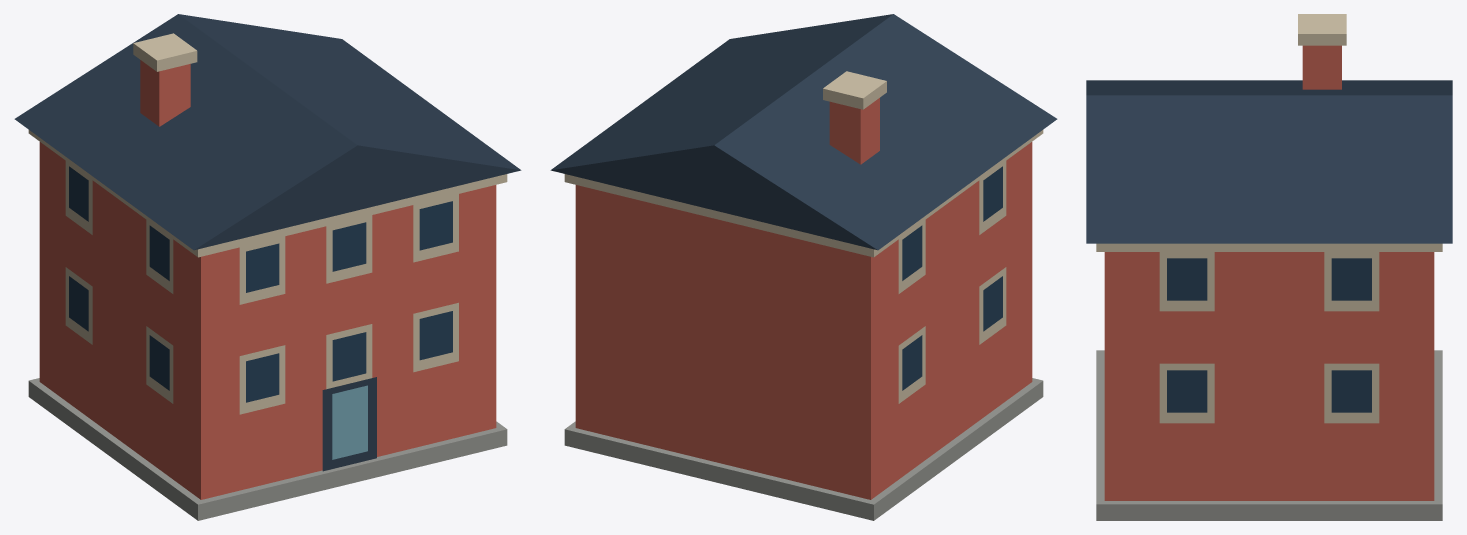
The model's file is house-coral.glb.
The picture shows the model from 3 angles, left to right: view 1: azimuth 30°, elevation 25°; view 2: azimuth 150°, elevation 25°; view 3: azimuth 270°, elevation 25°; orthographic projection. The views are drawn at different scales.
Visible parts, largest first — view 1: asset_root; view 2: asset_root; view 3: asset_root.
Part boxes in pixels (<box>): asset_root: <box>14,14,521,520</box>; asset_root: <box>550,14,1057,520</box>; asset_root: <box>1086,14,1452,520</box>.
Bounding box in the file's own units: 4.22 × 4.6 × 4.
